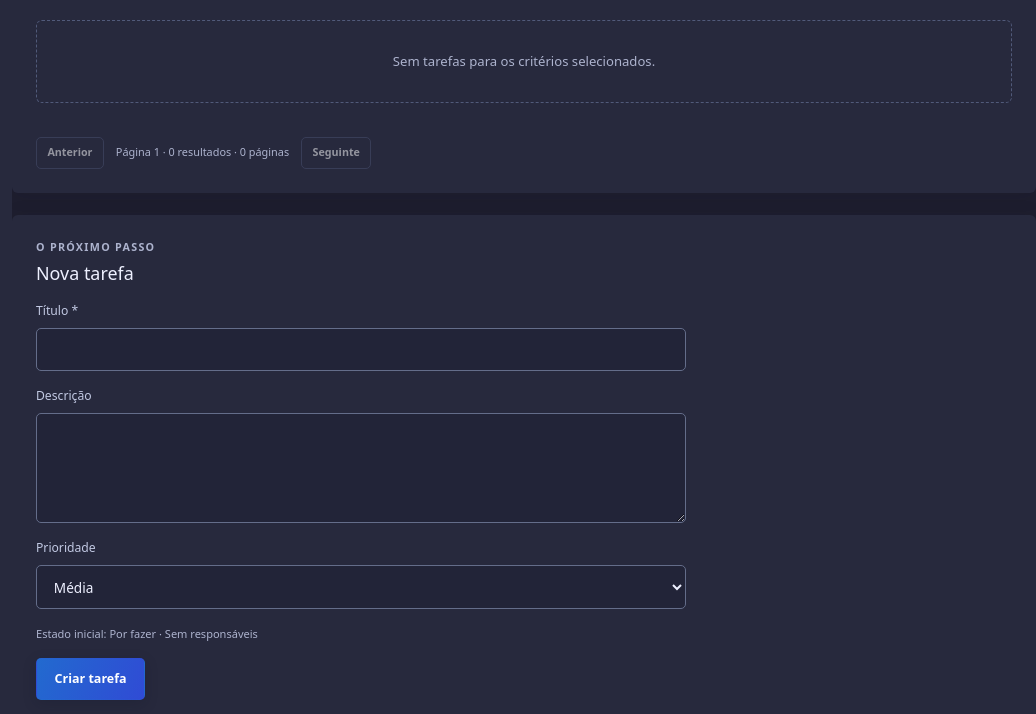
Test: Criação de tarefas › atualiza a listagem e contagens sem recarregar e sem duplicar
(page scrolled)
Type "Nova tarefa real" into the field labelled "Título *".
click(361, 350); type("Nova tarefa real")  # box [36,328,686,371]
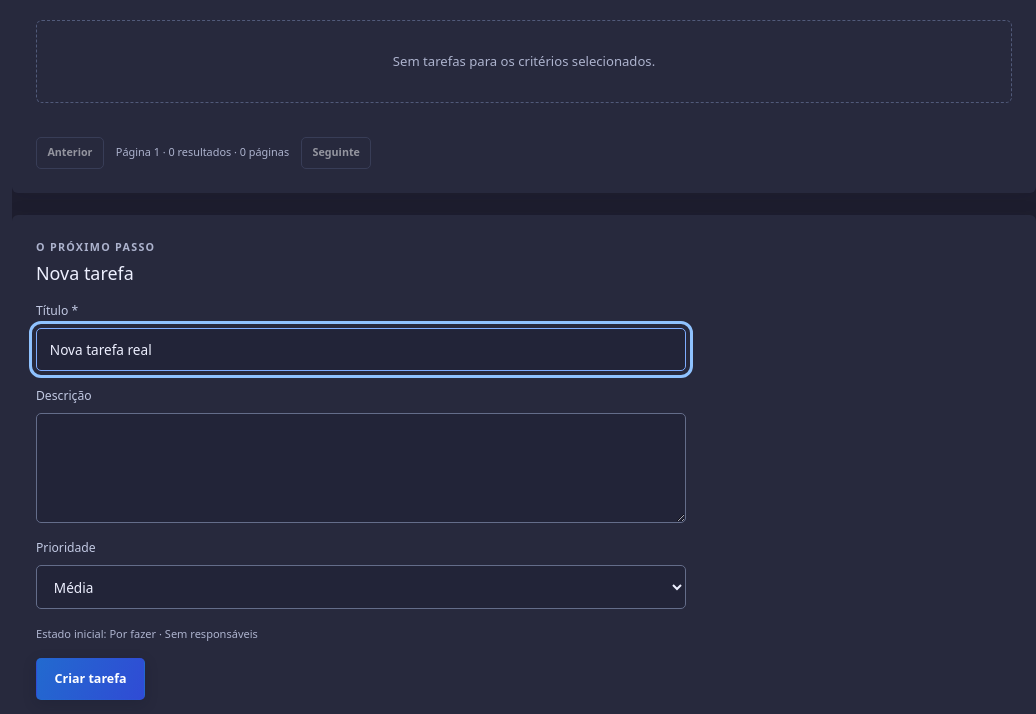
Click the button "Criar tarefa".
click(91, 679)  # box [36,658,145,700]
(page scrolled)
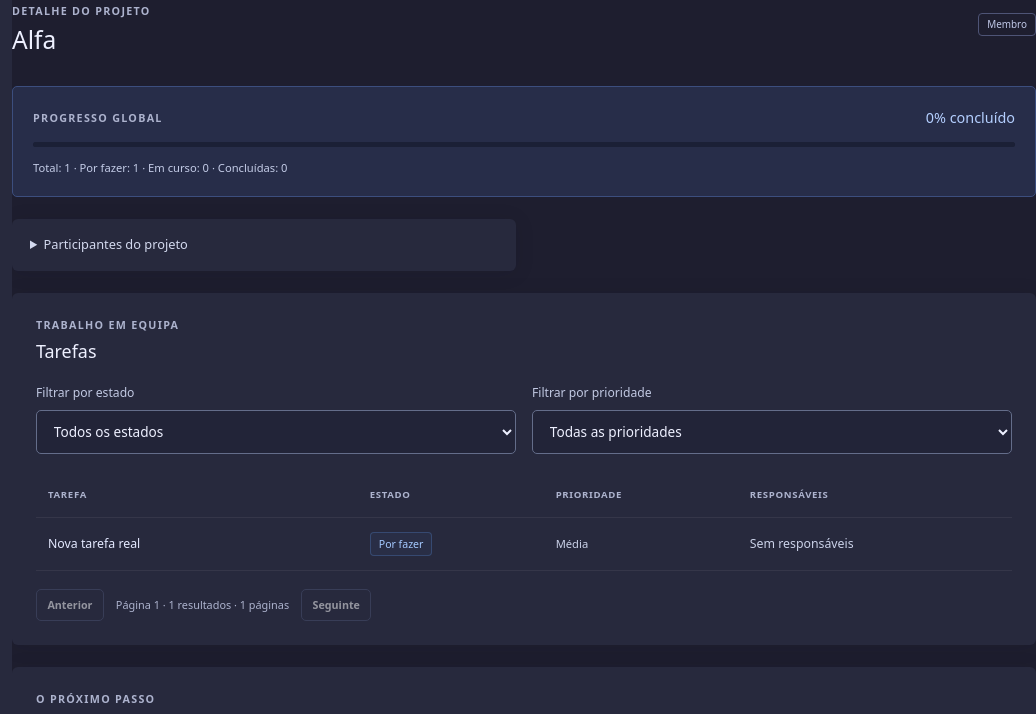
Now the number of links "Nova tarefa real" is 1, box [48,535,140,552]
Now the text "Total: 1 · Por fazer: 1 · Em curso: 0 · Concluídas: 0" is shown, box [33,160,288,175]
